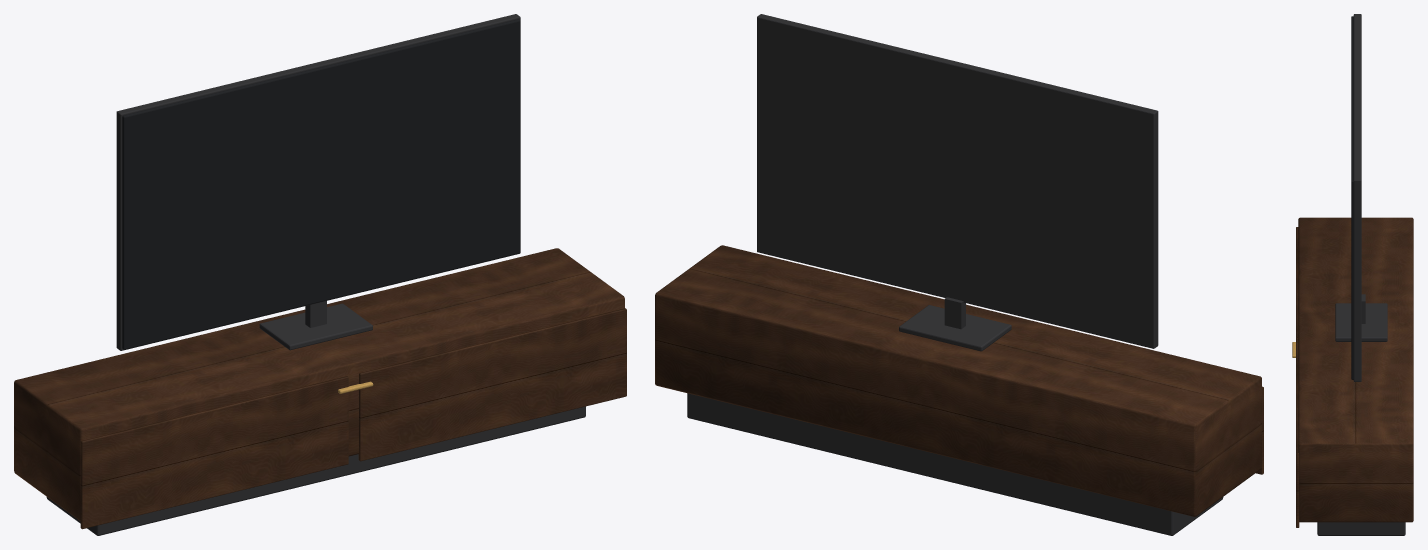
File: living_tv_unit.glb
3 renders of one model, left to right at view 1: azimuth 30°, elevation 25°; view 2: azimuth 150°, elevation 25°; view 3: azimuth 270°, elevation 25°, orthographic. The views are drawn at different scales.
Parts seen in each view (by area): view 1: living_tv_unit; view 2: living_tv_unit; view 3: living_tv_unit.
Boxes of the visible parts, x1,y1,x2,y2 form: living_tv_unit: (14, 14, 626, 535); living_tv_unit: (655, 14, 1263, 535); living_tv_unit: (1292, 14, 1413, 535).
Size of the model in its own units: 1.95 by 1.35 by 0.442.
4 materials, 2 textured.
